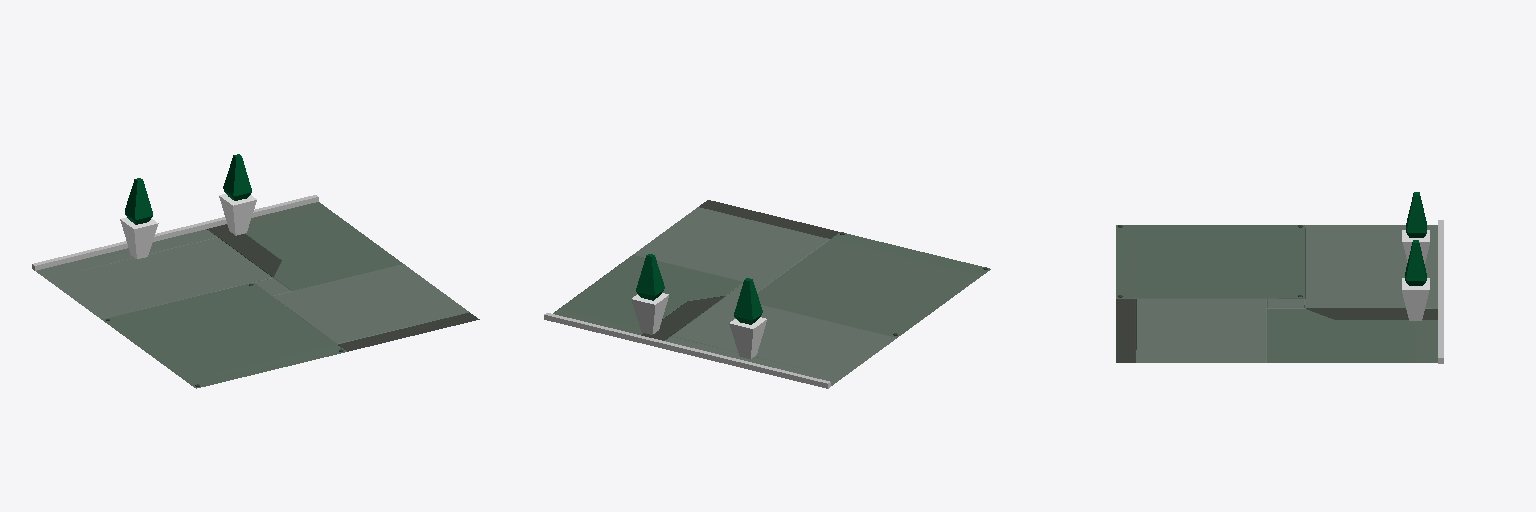
3 views of the same model, side by side, from view 1: azimuth 30°, elevation 25°; view 2: azimuth 150°, elevation 25°; view 3: azimuth 270°, elevation 25° (orthographic).
Parts seen in each view (by area): view 1: Scifi_Panel_04_Plaza014_group4.023_Scifi_Panel_04_Plaza014_group, base_singlePot01.019_base_singlePot01.007, base_singlePot01.018_base_singlePot01.006, Cube.926_Cube.1050; view 2: Scifi_Panel_04_Plaza014_group4.023_Scifi_Panel_04_Plaza014_group, Cube.926_Cube.1050, base_singlePot01.019_base_singlePot01.007, base_singlePot01.018_base_singlePot01.006; view 3: Scifi_Panel_04_Plaza014_group4.023_Scifi_Panel_04_Plaza014_group, base_singlePot01.019_base_singlePot01.007, base_singlePot01.018_base_singlePot01.006, Cube.926_Cube.1050.
Part boxes in pixels (x1,y1,x2,y2): Scifi_Panel_04_Plaza014_group4.023_Scifi_Panel_04_Plaza014_group: (36, 202, 479, 388); base_singlePot01.019_base_singlePot01.007: (219, 154, 256, 235); base_singlePot01.018_base_singlePot01.006: (120, 178, 158, 258); Cube.926_Cube.1050: (32, 195, 318, 270); Scifi_Panel_04_Plaza014_group4.023_Scifi_Panel_04_Plaza014_group: (553, 200, 990, 385); Cube.926_Cube.1050: (544, 313, 830, 388); base_singlePot01.019_base_singlePot01.007: (631, 254, 668, 334); base_singlePot01.018_base_singlePot01.006: (729, 278, 766, 358); Scifi_Panel_04_Plaza014_group4.023_Scifi_Panel_04_Plaza014_group: (1116, 225, 1437, 362); base_singlePot01.019_base_singlePot01.007: (1402, 240, 1429, 320); base_singlePot01.018_base_singlePot01.006: (1402, 192, 1429, 263); Cube.926_Cube.1050: (1438, 220, 1443, 363).
Size of the model in its own units: 10 by 2.59 by 10.